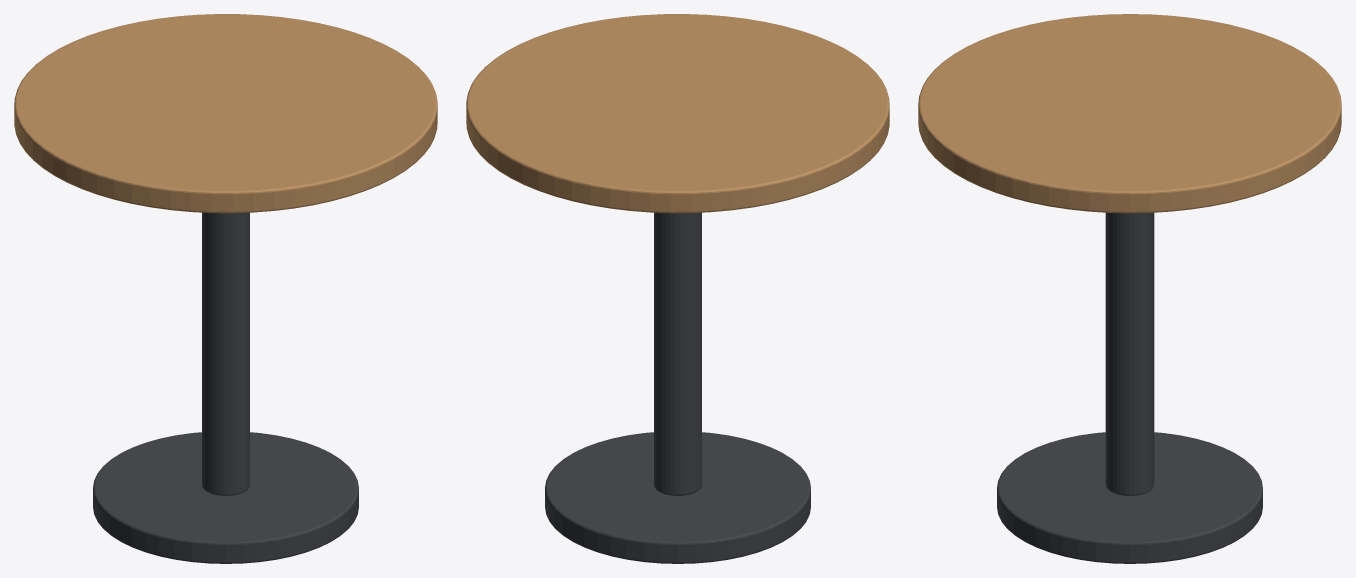
File: round-cafe-table-01.glb
3 views of the same model, side by side, from view 1: azimuth 30°, elevation 25°; view 2: azimuth 150°, elevation 25°; view 3: azimuth 270°, elevation 25° (orthographic).
Visible parts, largest first — view 1: round-cafe-table-01; view 2: round-cafe-table-01; view 3: round-cafe-table-01.
Part boxes in pixels (left/top/right/bottom): round-cafe-table-01: left=14, top=14, right=437, bottom=563; round-cafe-table-01: left=466, top=14, right=889, bottom=563; round-cafe-table-01: left=918, top=14, right=1341, bottom=563.
Size of the model in its own units: 0.7 by 0.74 by 0.7.
